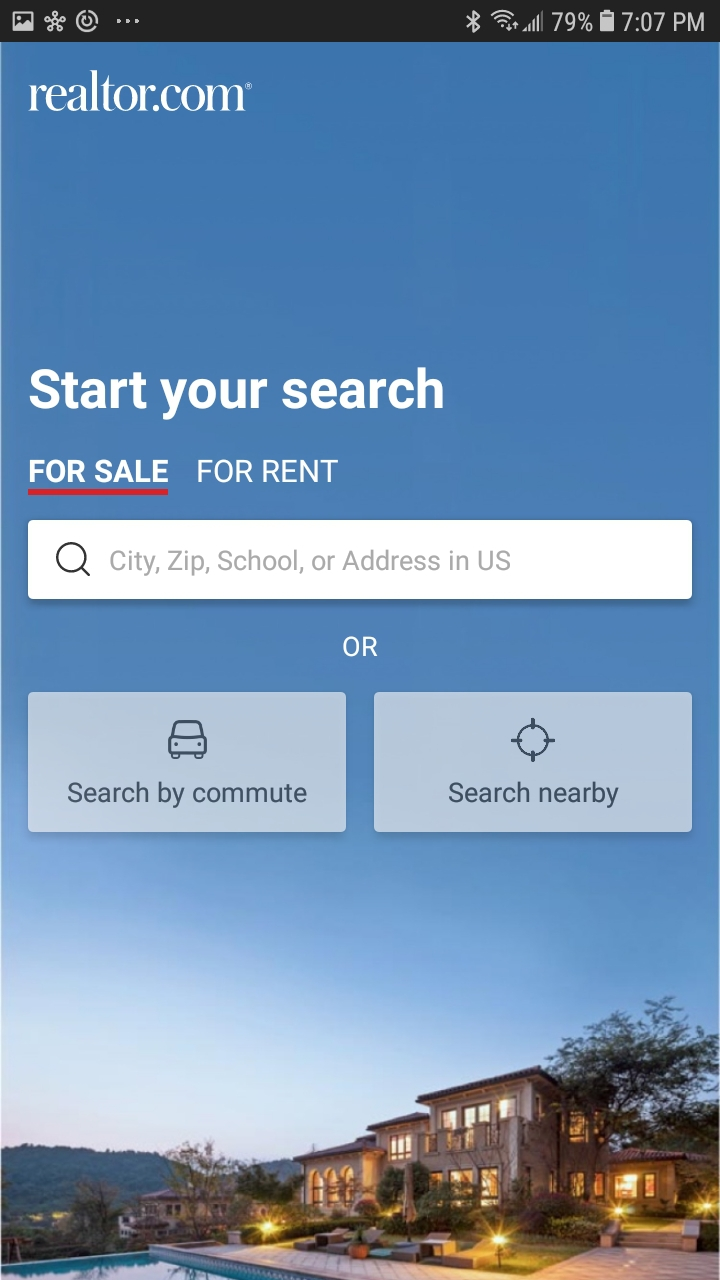BackgroundImage: (1, 43, 720, 1280)
EditText: (28, 521, 692, 600)
Icon: (57, 543, 91, 577)
Text: (30, 367, 444, 421), (110, 550, 511, 577), (29, 70, 253, 113), (198, 459, 339, 484), (29, 459, 169, 484), (343, 636, 379, 658)
TextButton: (28, 692, 347, 833), (375, 692, 693, 833)
UpperTaskBar: (1, 1, 720, 43)
